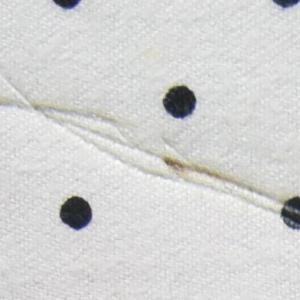Oil Stain: (157, 155, 300, 213), (1, 93, 140, 131)
Wrinkle: (1, 70, 300, 231)
